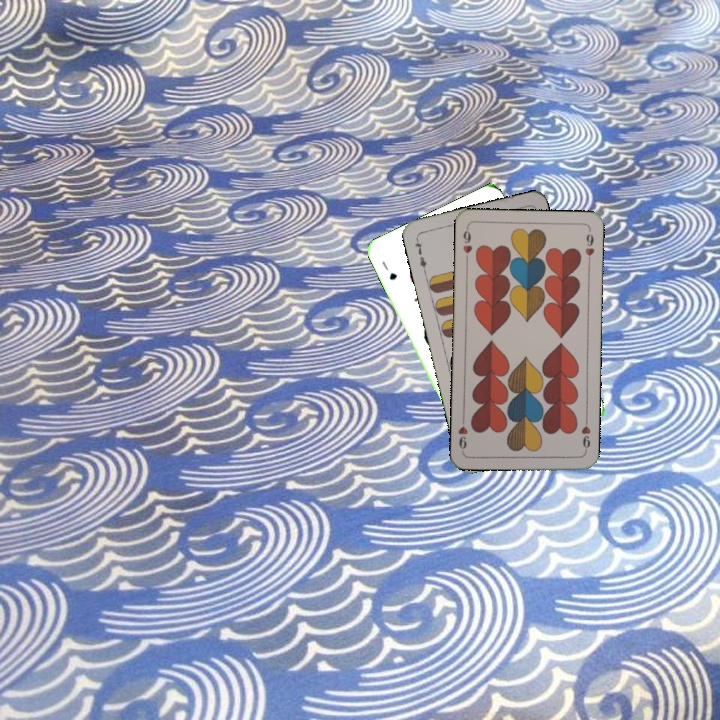E7: (411, 234, 429, 274)
GU: (378, 257, 400, 283)
H9: (459, 224, 475, 264), (577, 415, 593, 455)
